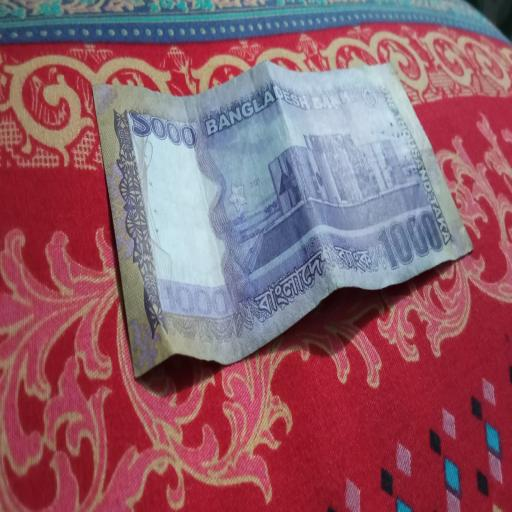1000taka: (91, 57, 471, 376)
